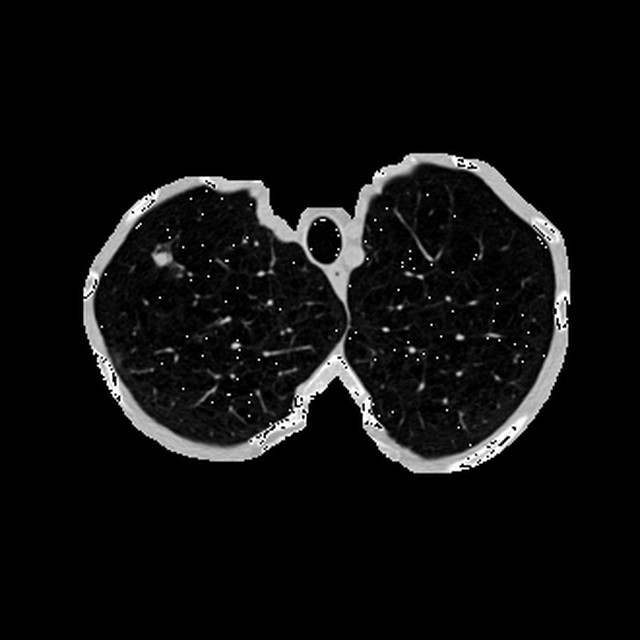PN: (153, 250, 169, 266)
